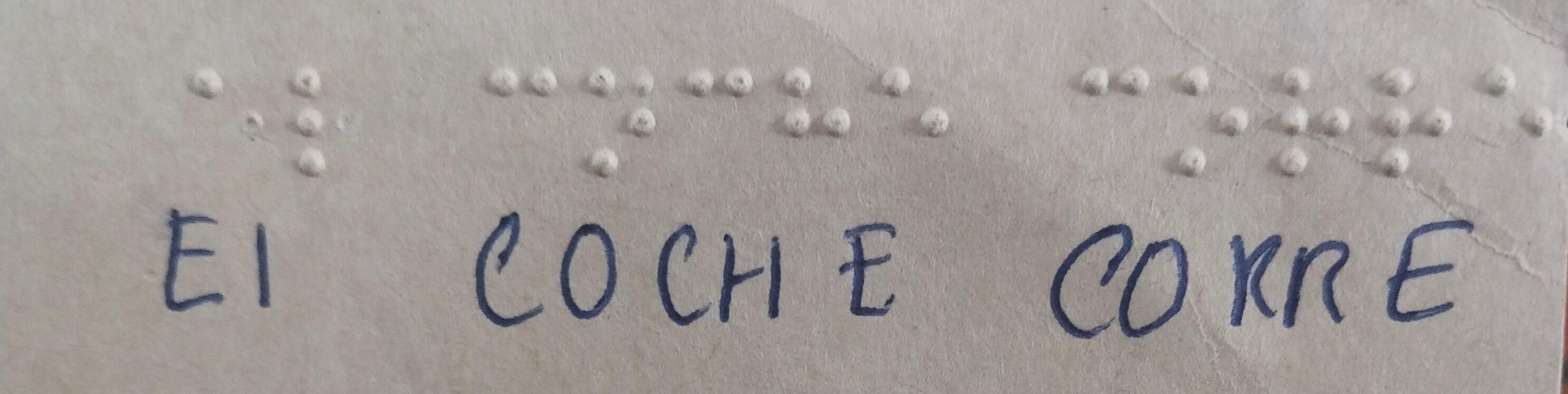c: (477, 47, 570, 149), (1066, 49, 1162, 141), (672, 62, 767, 128)
e: (1463, 55, 1553, 178), (871, 53, 960, 158), (183, 53, 273, 156)
h: (781, 55, 855, 153)
l: (290, 60, 348, 188)
o: (582, 55, 670, 186), (1178, 56, 1259, 193)
r: (1264, 65, 1356, 197), (1368, 60, 1458, 190)
